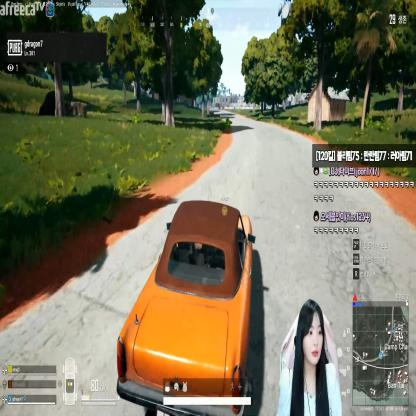streamer: (278, 298, 341, 416)
